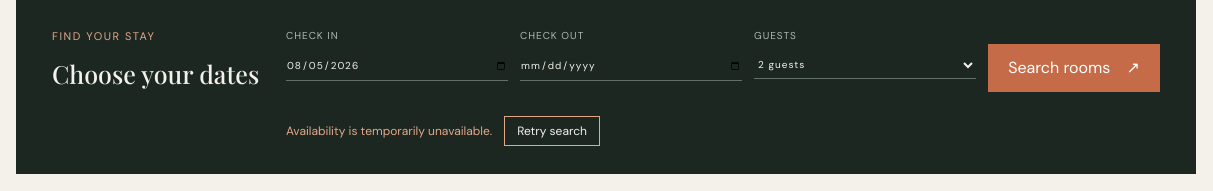
Test case: availability search › shows date validation without a stale Retry action
Type "2026-08-10" into the date field with test id "check-in" at (397, 66), box [286,51,508,81]
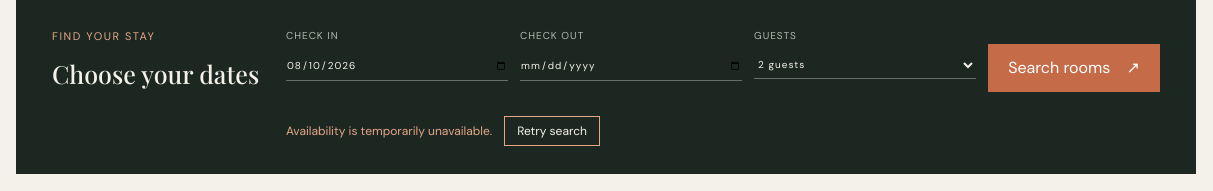
Type "2026-08-10" into the date field with test id "check-out" at (631, 66), box [520,51,742,81]
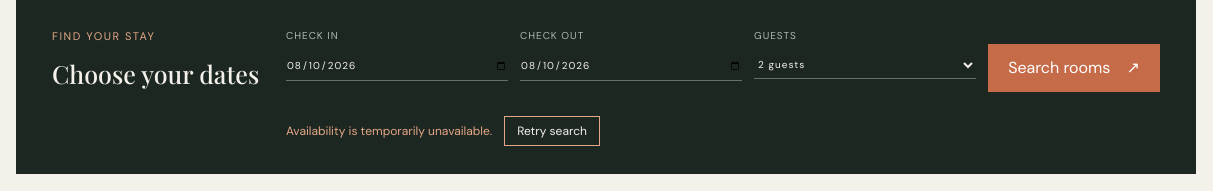
Submit the form, box [286,28,1160,92]
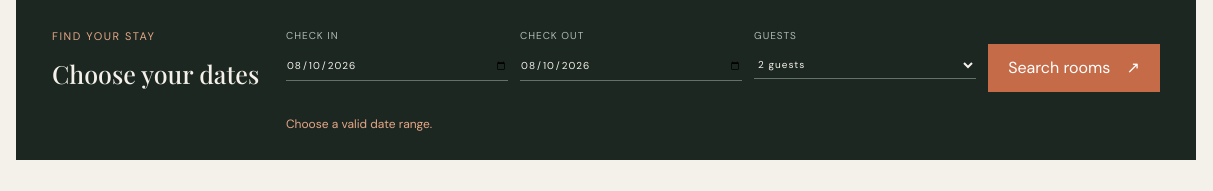
Now the message "Choose a valid date range." is shown, box [286,116,432,132]
